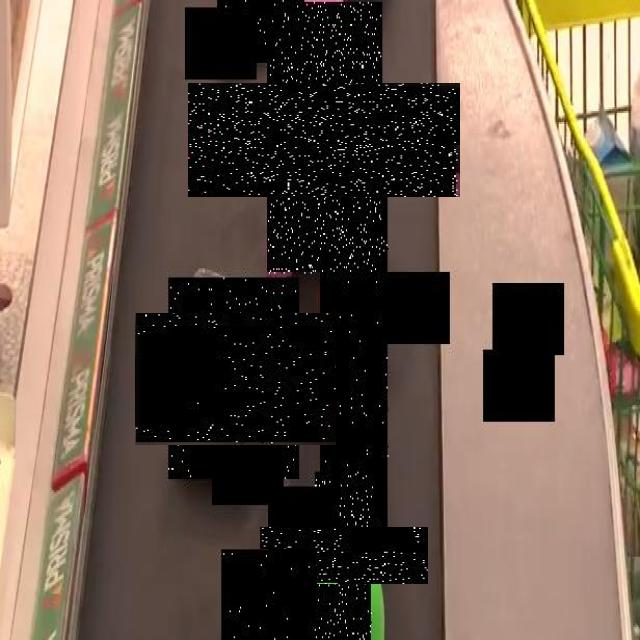food-box: (152, 296, 319, 462), (321, 198, 390, 564), (287, 499, 400, 612)
fruit: (221, 549, 317, 640)
utility-box: (228, 43, 421, 236), (217, 0, 305, 63)
